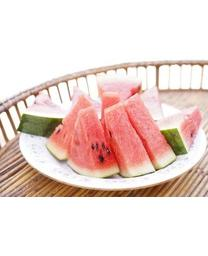watermelon: (33, 78, 203, 174)
